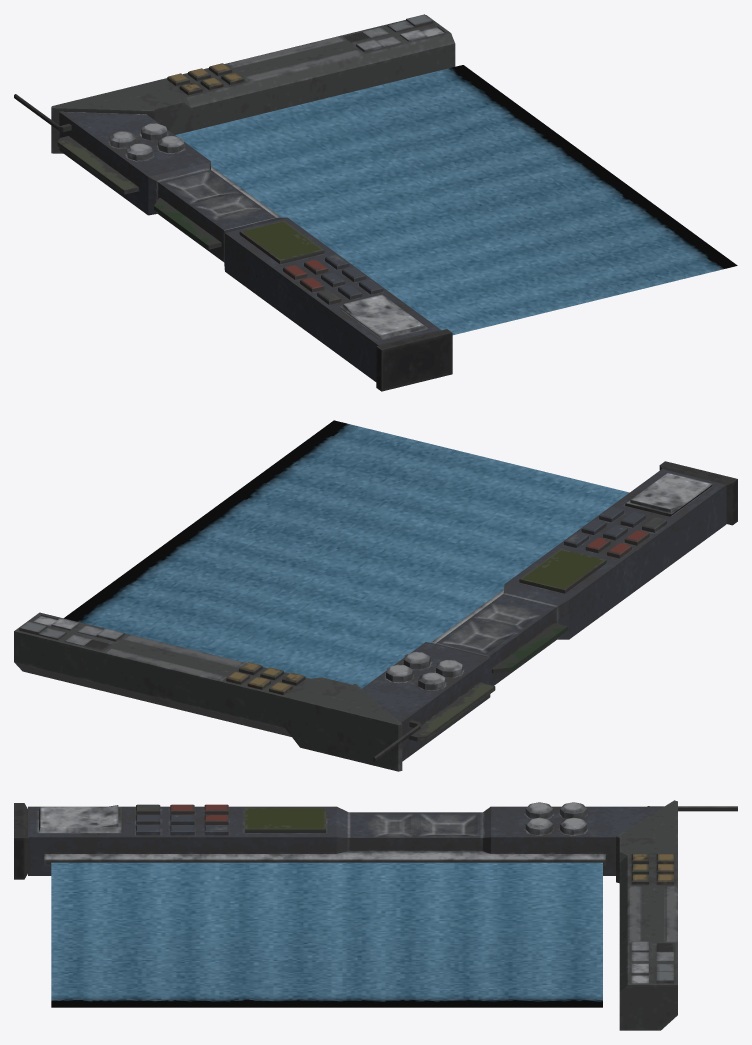
The model's file is datapad.obj.
3 renders of one model, top to bottom at view 1: azimuth 30°, elevation 25°; view 2: azimuth 150°, elevation 25°; view 3: azimuth 270°, elevation 25°, orthographic. The views are drawn at different scales.
Parts seen in each view (by area): view 1: Plane, LP; view 2: Plane, LP; view 3: Plane, LP.
Boxes of the visible parts, box(x1,y1,x2,y2) form: Plane: box(175, 65, 737, 335); LP: box(14, 14, 455, 391); Plane: box(64, 420, 629, 688); LP: box(14, 461, 737, 771); Plane: box(51, 862, 602, 1007); LP: box(14, 800, 737, 1030).
Size of the model in its own units: 2.09 by 0.2578 by 3.38.
